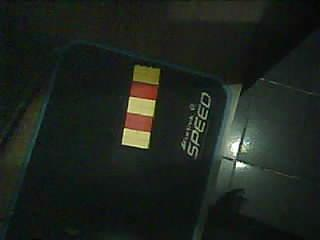lego: (121, 63, 161, 150)
